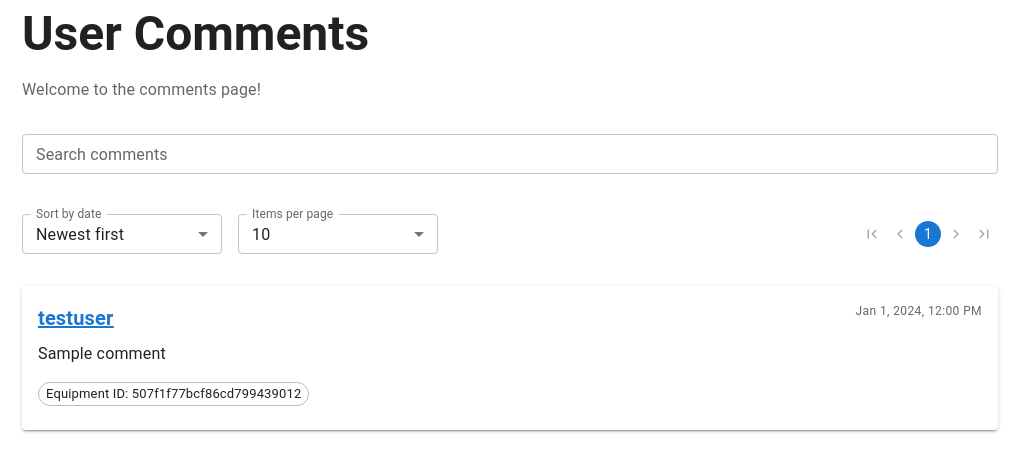
Test case: changes sort order when sort select is changed
The image size is (1016, 450).
What coordinates should you click on to do the following:
click the dropdown named "Sort by date"
I would click on:
 (80, 234)
Its box is 36,224 -> 124,244.
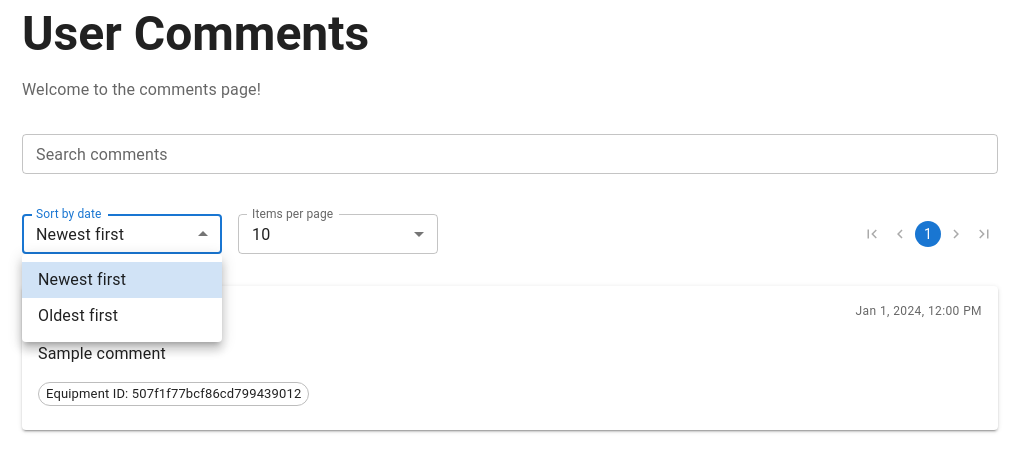
What coordinates should you click on to do the following:
click the option "Oldest first"
I would click on:
 (78, 316)
Its box is 38,306 -> 118,325.
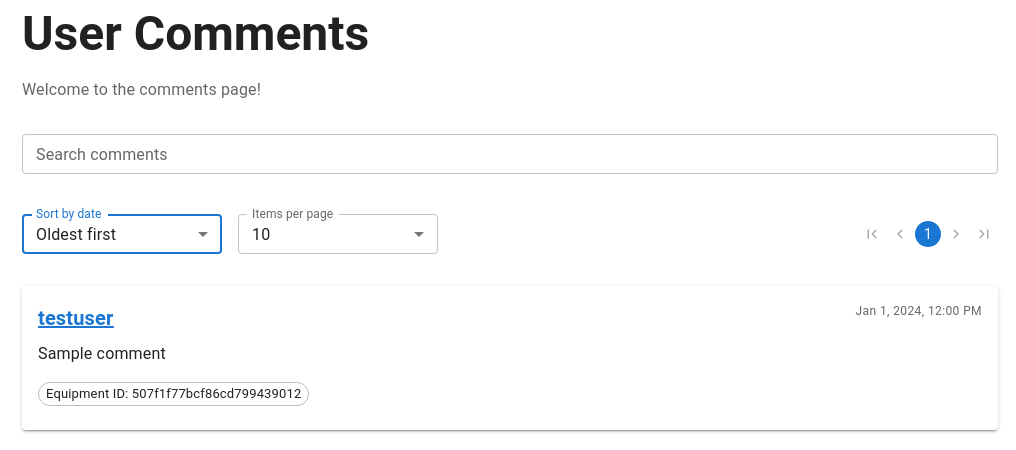
Check: the dropdown named "Sort by date" reads "Oldest first", box 36,224 -> 116,244
